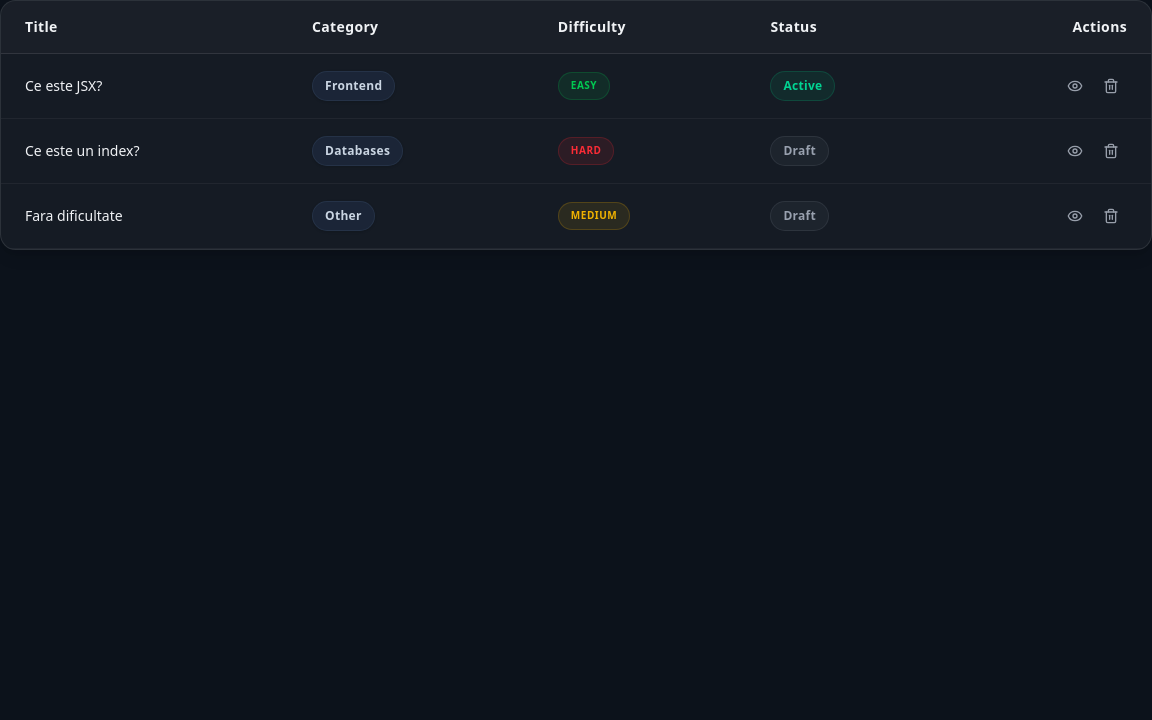
Test: QuestionTable › deletes the question only after confirmation
This screenshot has width=1152, height=720.
clicking the bin only opens the modal, it does not delete
What coordinates should you click on to do the following:
click the button named "Delete question 1"
I would click on:
 (1111, 86)
Its box is [1095,70,1127,102].
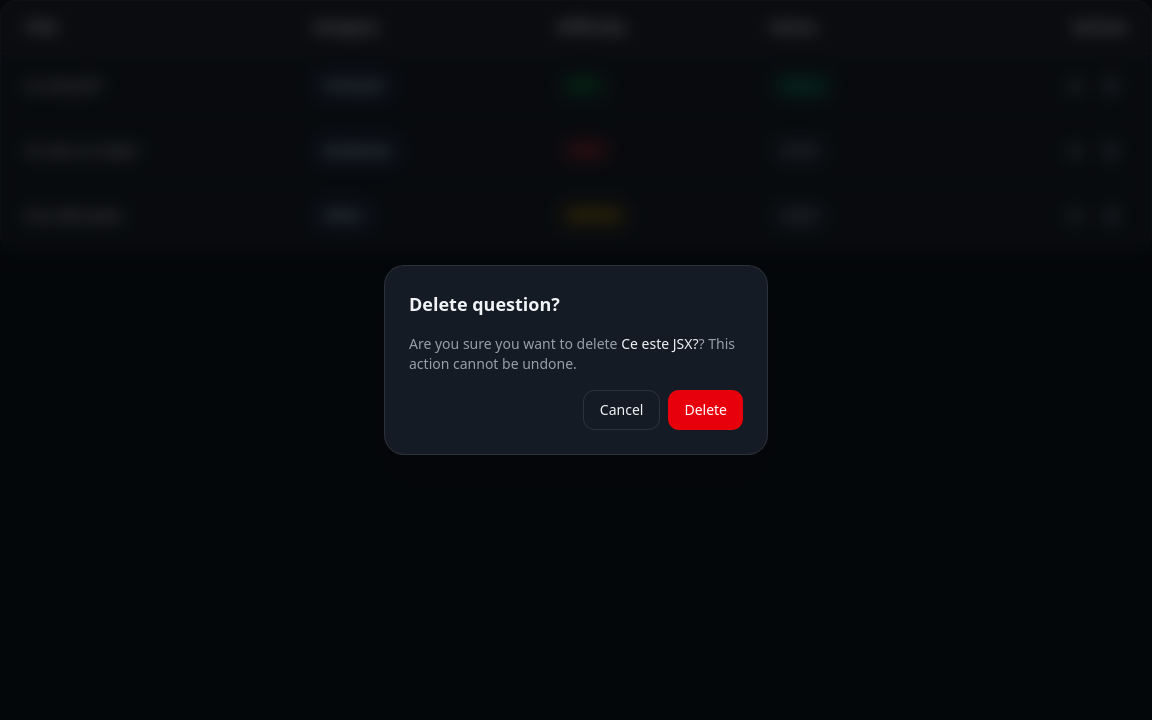
Expected: the heading "Delete question?" is shown, [409,292,560,316]
Cancel closes the modal without deleting
What coordinates should you click on to do the following:
click the button "Cancel"
I would click on:
 (622, 410)
Its box is [583,390,660,430].
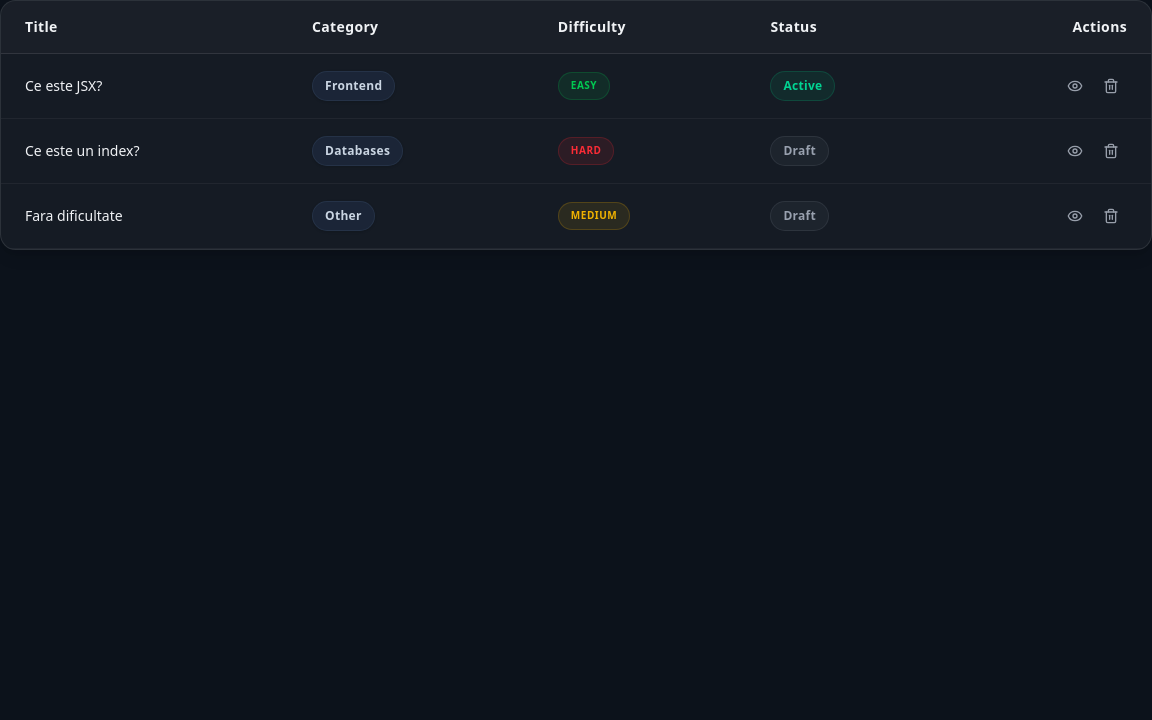
Expected: the heading "Delete question?" is gone
What coordinates should you click on to do the following:
click the button named "Delete question 1"
I would click on:
 (1111, 86)
Its box is [1095,70,1127,102].
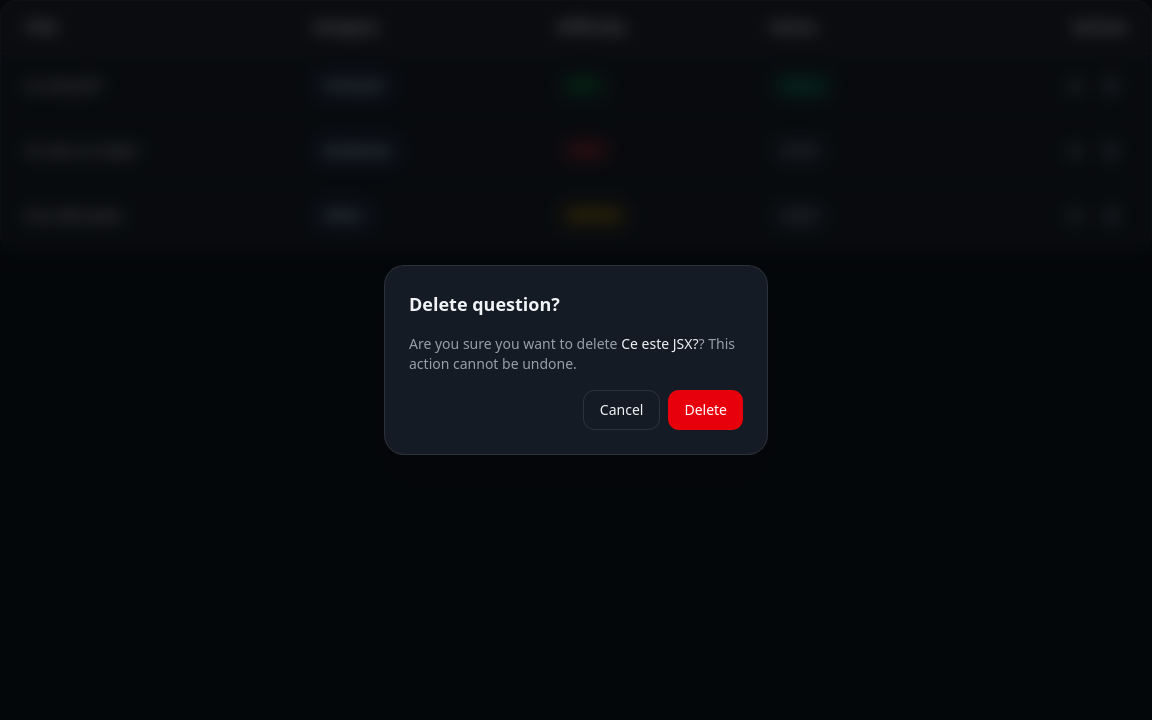
What coordinates should you click on to do the following:
click the button "Delete"
I would click on:
 (706, 410)
Its box is [668,390,743,430].
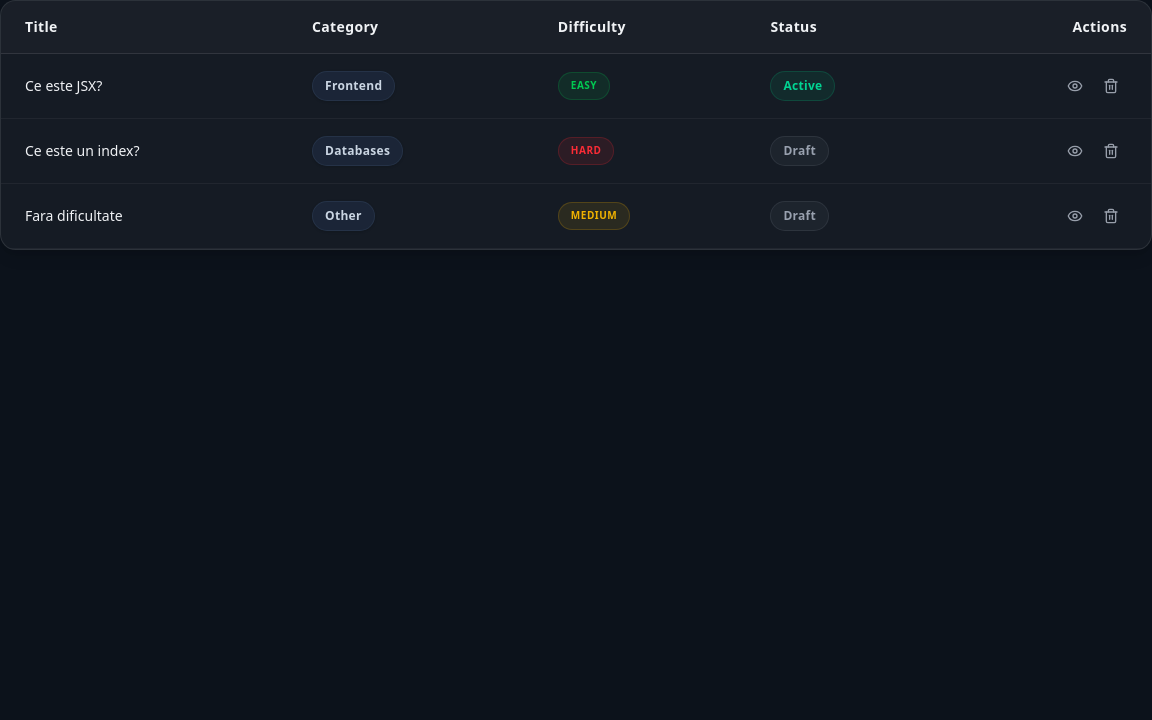
Expected: the heading "Delete question?" is gone
